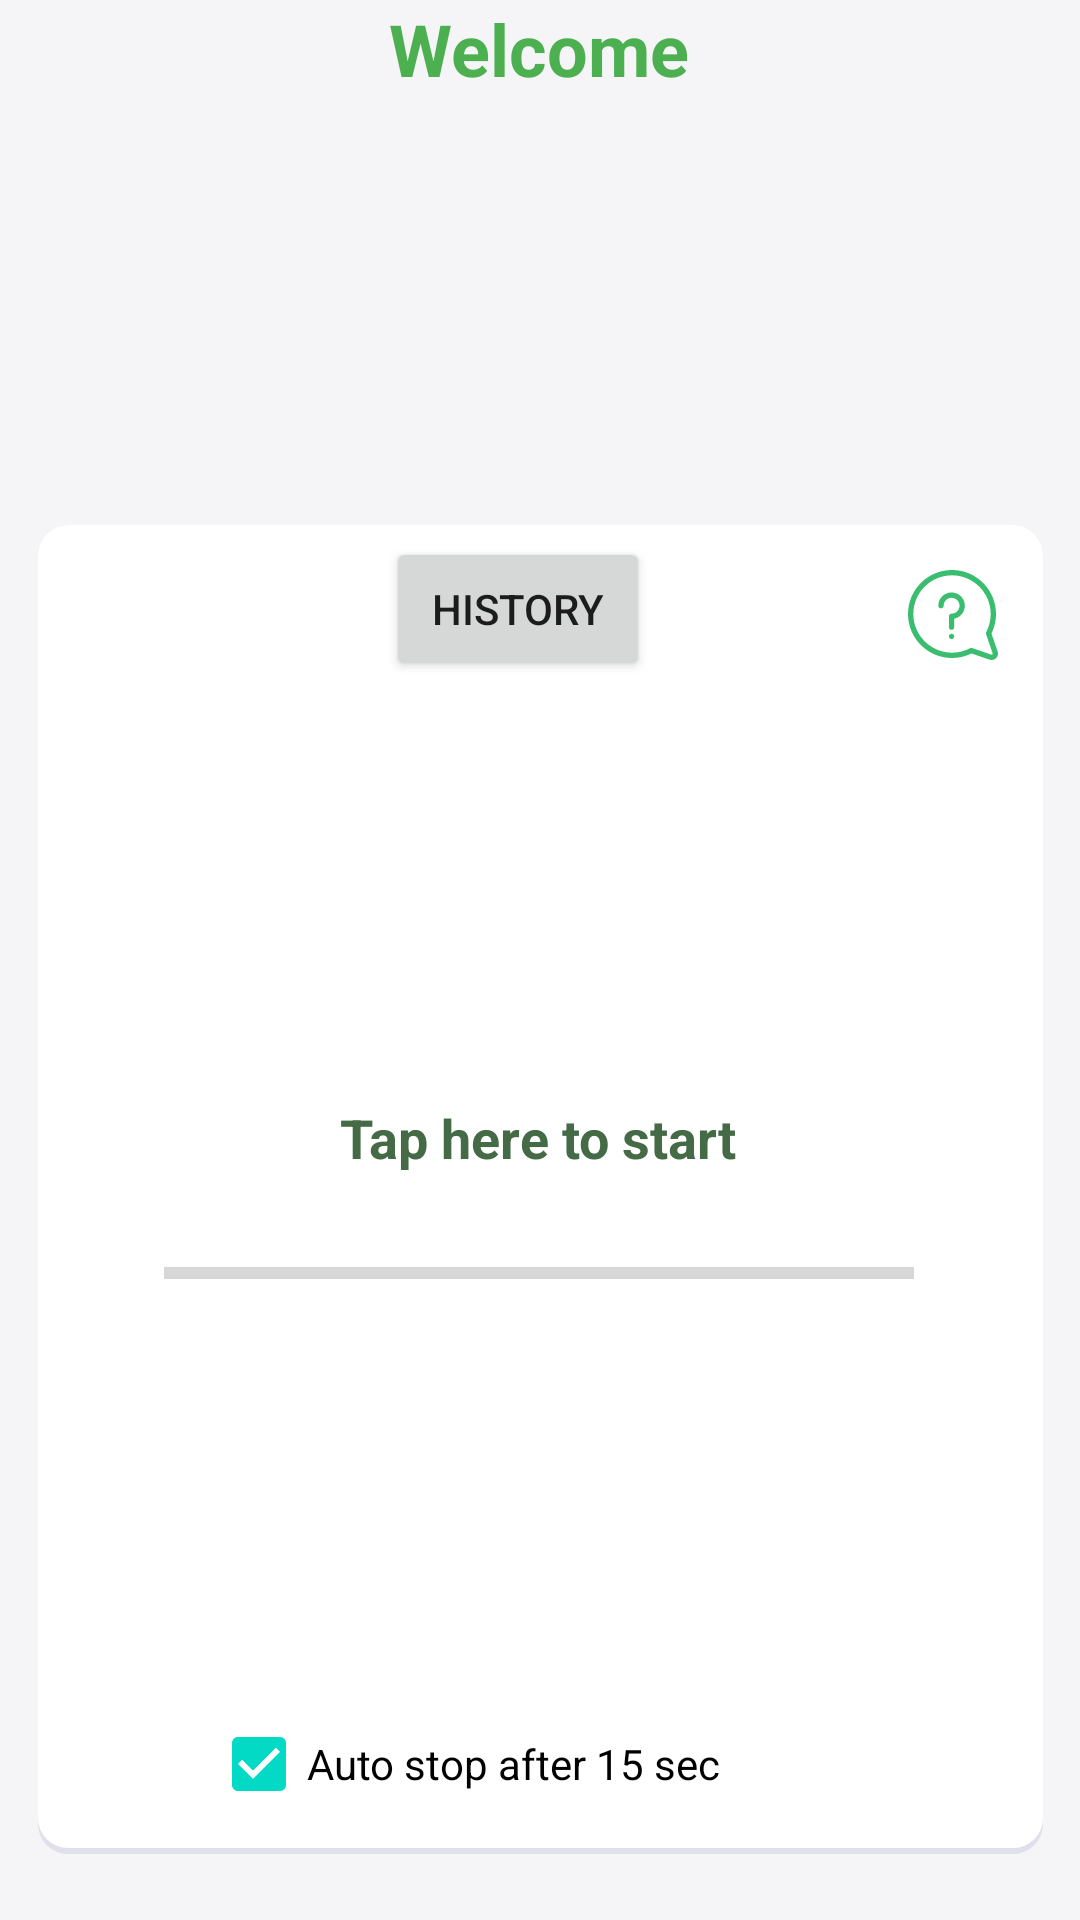

Icons on this 1080px x 1920px Android screen, each with its box as Rect(x1, y1, x2, y2):
question: Rect(908, 570, 998, 660)
